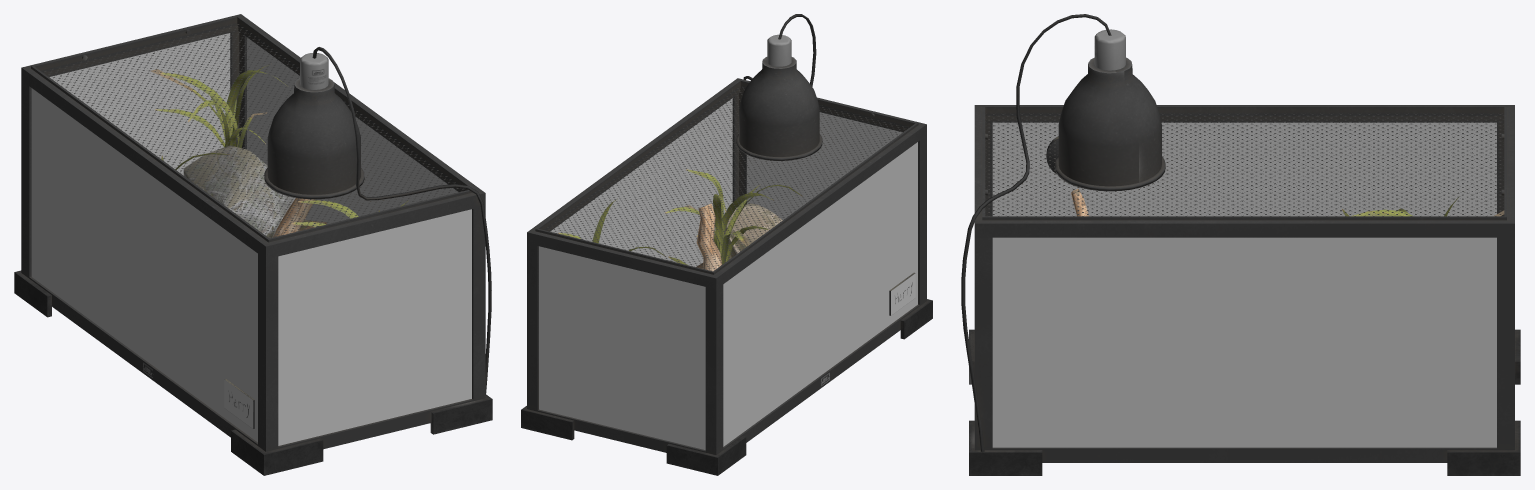
The model's file is SM_Tarantula_Tank_01a.fbx.
3 views of the same model, side by side, from view 1: azimuth 30°, elevation 25°; view 2: azimuth 150°, elevation 25°; view 3: azimuth 270°, elevation 25° (orthographic). The views are drawn at different scales.
Parts seen in each view (by area): view 1: SM_Tarantula_Tank_01a_LOD0; view 2: SM_Tarantula_Tank_01a_LOD0; view 3: SM_Tarantula_Tank_01a_LOD0.
Part boxes in pixels (x1,y1,x2,y2): SM_Tarantula_Tank_01a_LOD0: (14, 14, 492, 475); SM_Tarantula_Tank_01a_LOD0: (521, 14, 932, 475); SM_Tarantula_Tank_01a_LOD0: (961, 14, 1520, 475).
Size of the model in its own units: 72.87 by 140 by 110.
Materials: 3 (2 with a texture image).
